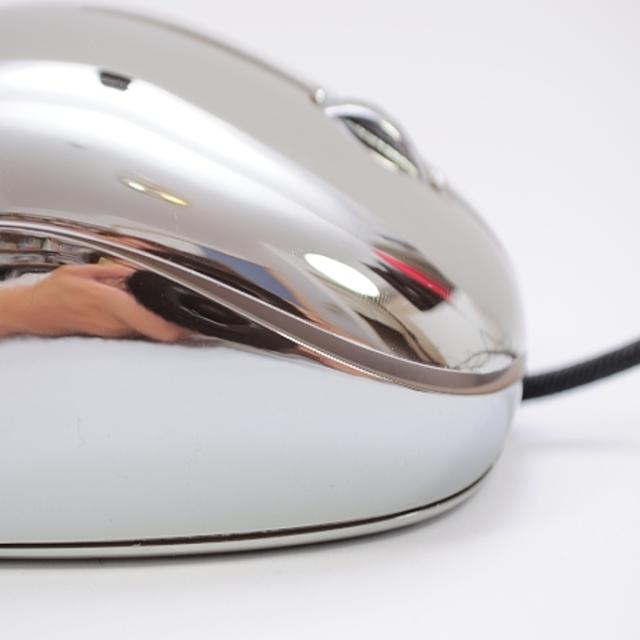Computer-mouse: (0, 4, 529, 556), (0, 4, 528, 556)
